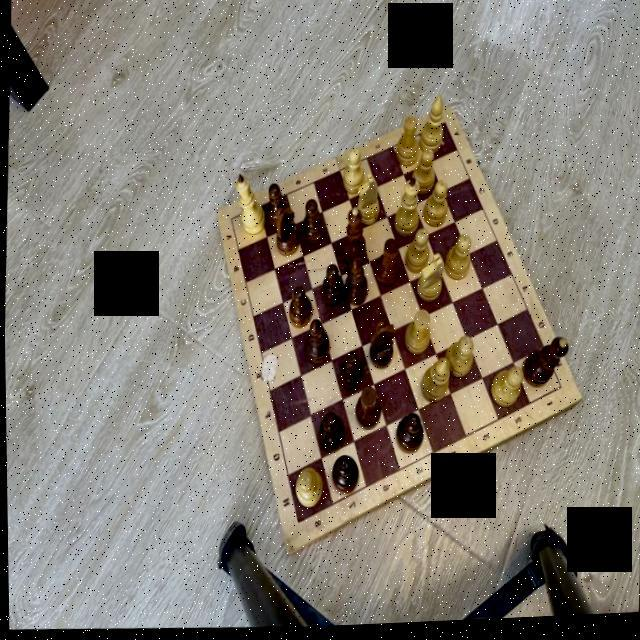chess-table-corners: (291, 518, 301, 532), (226, 215, 234, 225), (556, 386, 563, 396), (442, 122, 447, 128)
